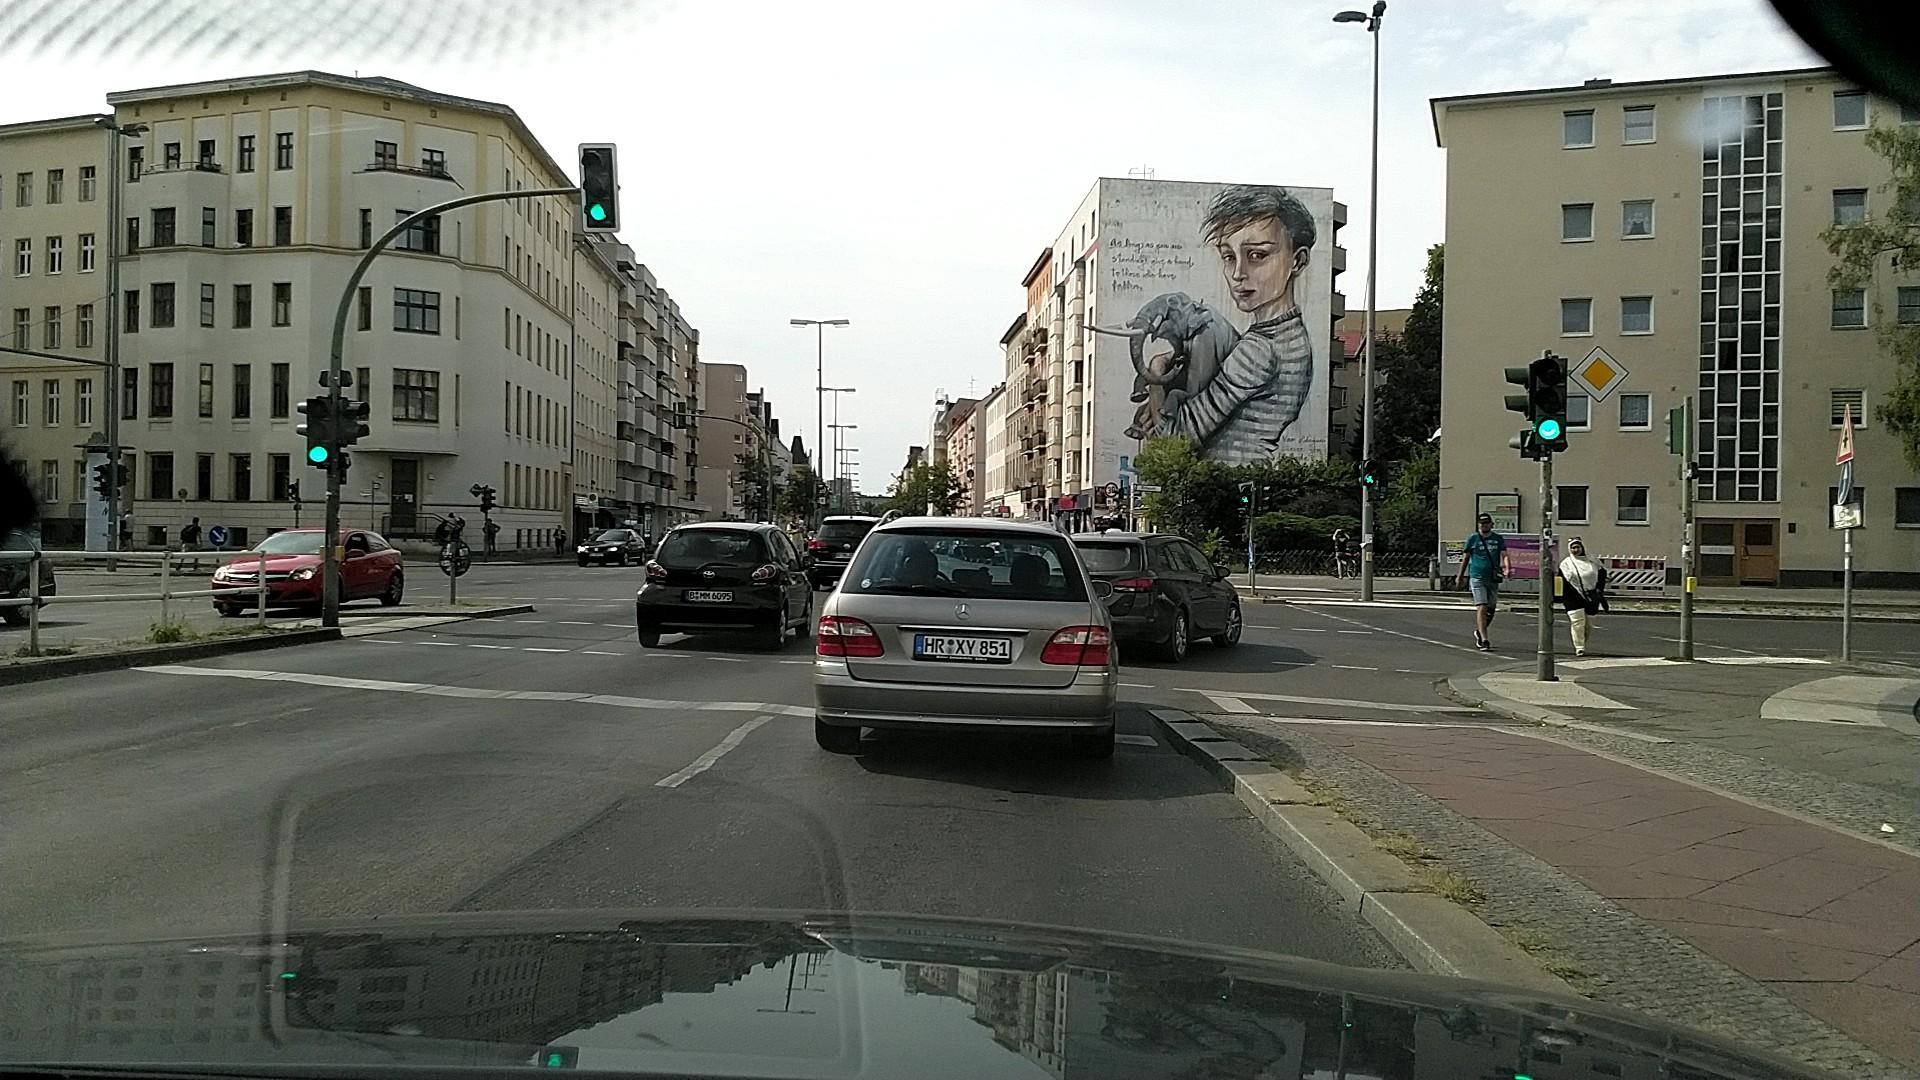Human face: (1213, 213, 1311, 314), (1568, 537, 1584, 559), (1477, 515, 1493, 535)
Vehicle registration plate: (914, 634, 1011, 663), (680, 588, 734, 604), (830, 552, 854, 559)
